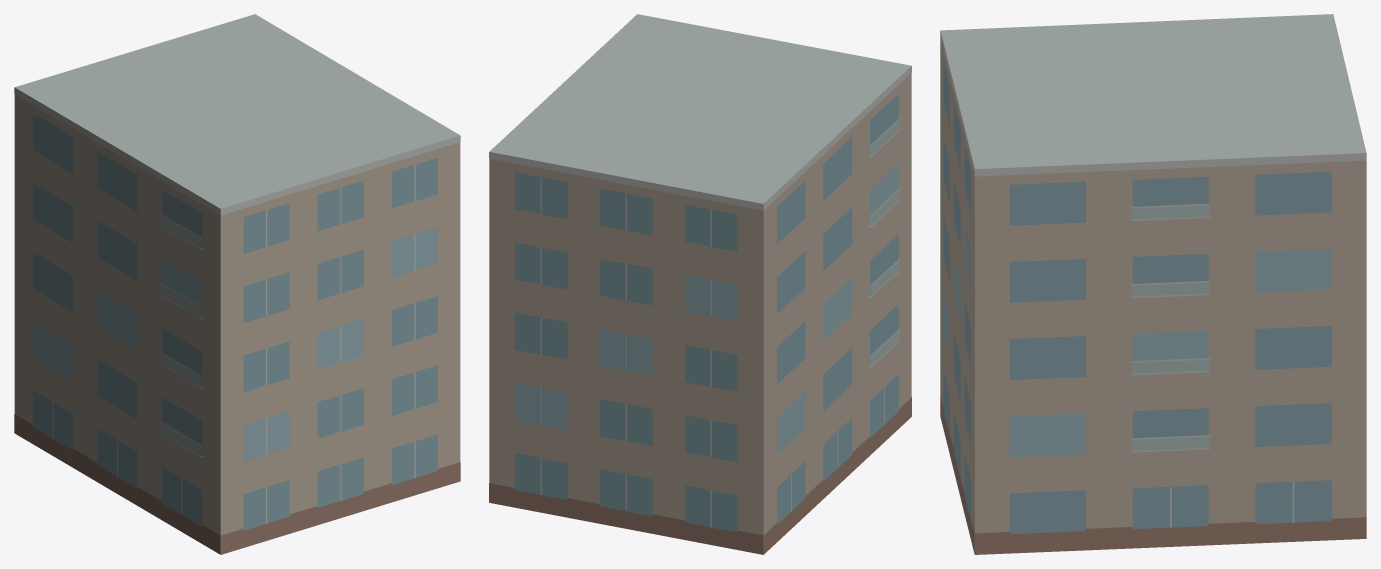
File: survey-upis-32667102.glb
3 renders of one model, left to right at view 1: azimuth 30°, elevation 25°; view 2: azimuth 150°, elevation 25°; view 3: azimuth 270°, elevation 25°, orthographic. The views are drawn at different scales.
Parts seen in each view (by area): view 1: survey-upis-32667102.tmp; view 2: survey-upis-32667102.tmp; view 3: survey-upis-32667102.tmp.
Boxes of the visible parts, x1=… form: survey-upis-32667102.tmp: x1=14, y1=14, x2=460, y2=554; survey-upis-32667102.tmp: x1=489, y1=14, x2=911, y2=554; survey-upis-32667102.tmp: x1=940, y1=14, x2=1366, y2=554.
Bounding box in the file's own units: 10.92 × 12.65 × 12.68.
